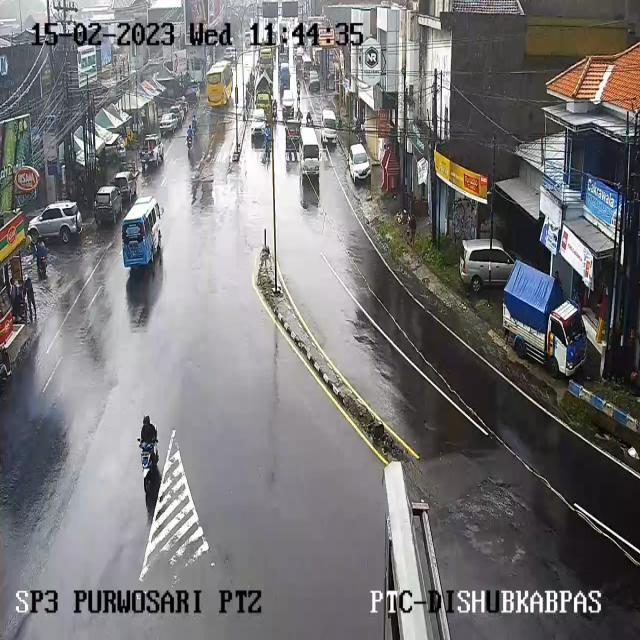Bus: (123, 197, 165, 280), (206, 59, 233, 108), (300, 127, 321, 175), (139, 134, 164, 168)
Car: (454, 238, 522, 286), (28, 201, 82, 244), (93, 186, 123, 225), (347, 144, 370, 182), (112, 170, 139, 202), (250, 109, 268, 142), (321, 109, 338, 143), (159, 112, 179, 134), (306, 70, 320, 93), (282, 90, 294, 116), (169, 105, 184, 124), (280, 64, 290, 87), (224, 46, 236, 60), (295, 46, 305, 61)
Motorbike: (134, 409, 166, 490), (185, 126, 193, 149), (192, 113, 199, 133), (296, 104, 303, 122), (296, 79, 303, 95), (306, 111, 313, 126)
Truck: (500, 260, 580, 381), (255, 73, 272, 114), (258, 45, 276, 67)
